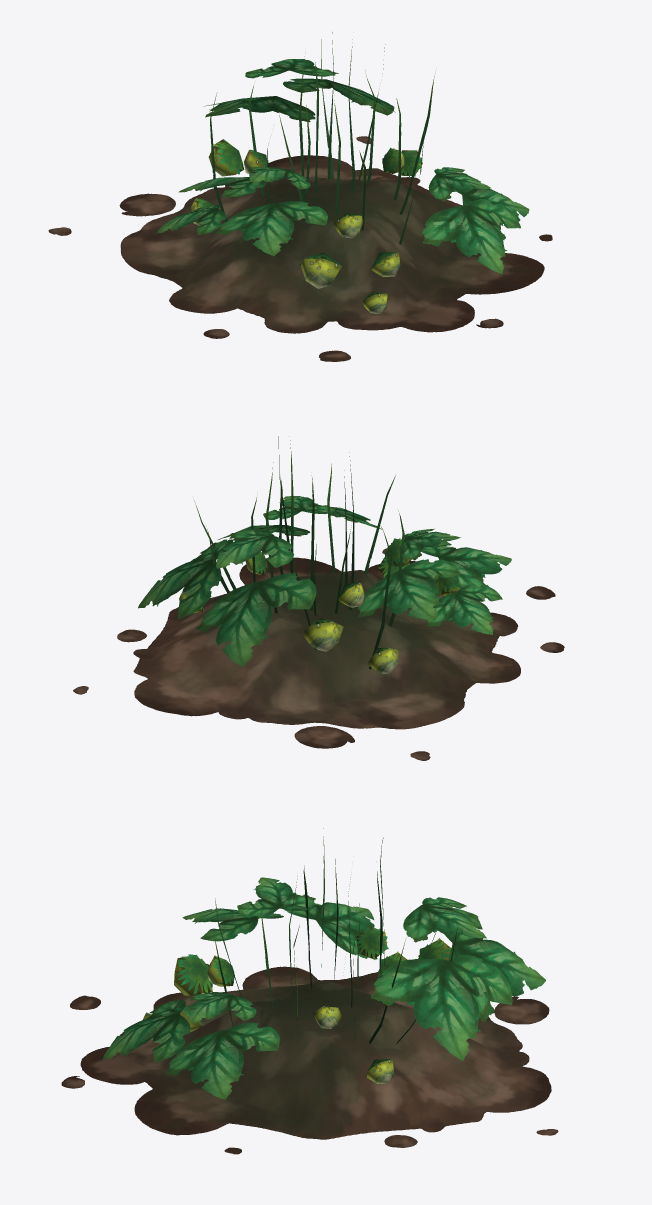
File: stawberry_stage2.FBX
3 views of the same model, one above another, from view 1: azimuth 30°, elevation 25°; view 2: azimuth 150°, elevation 25°; view 3: azimuth 270°, elevation 25° (orthographic). The views are drawn at different scales.
Parts seen in each view (by area): view 1: stawberry_stage2; view 2: stawberry_stage2; view 3: stawberry_stage2.
Boxes of the visible parts, left/top/right/bottom form: stawberry_stage2: left=48, top=32, right=552, bottom=361; stawberry_stage2: left=73, top=436, right=564, bottom=760; stawberry_stage2: left=61, top=828, right=558, bottom=1154.
Size of the model in its own units: 5 by 2.16 by 4.94.
1 material, 1 textured.
